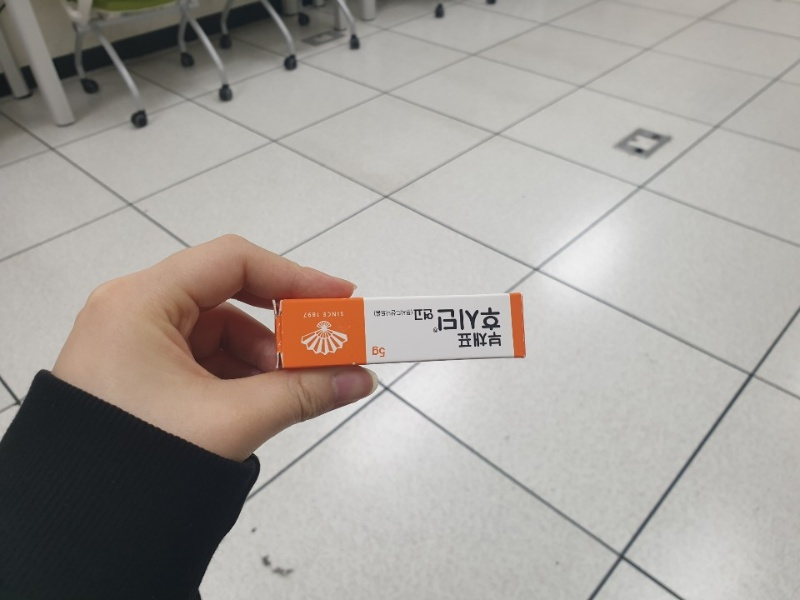fucidin: (272, 297, 524, 363)
